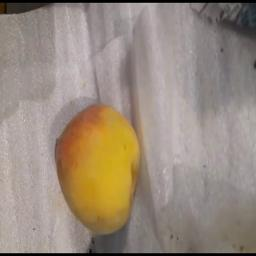Peach Semifresh: (36, 98, 147, 252)
